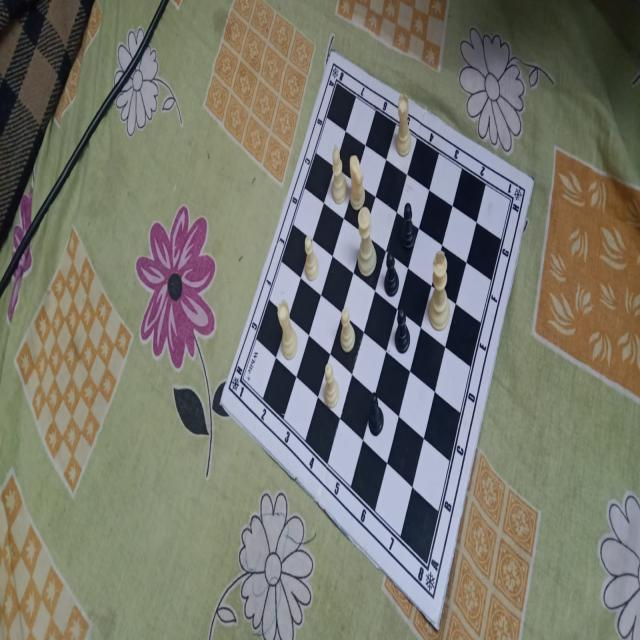corners: (524, 167, 539, 198), (324, 42, 338, 70), (214, 388, 230, 412), (430, 614, 443, 640)
